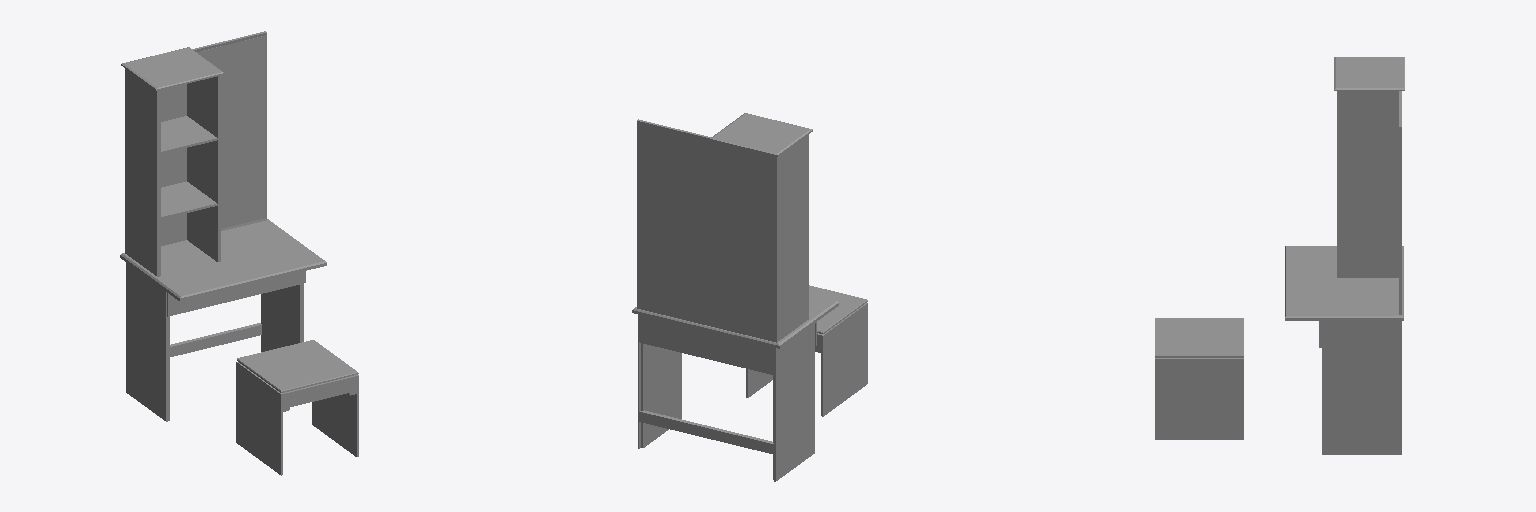
Rendered from dressing_table.obj.
3 renders of one model, left to right at view 1: azimuth 30°, elevation 25°; view 2: azimuth 150°, elevation 25°; view 3: azimuth 270°, elevation 25°, orthographic.
Visible parts, largest first — view 1: Plane, Cube.003, Cube.004, Cube, Cube.006_Cube.007, Cube.013_Cube.014, Cube.016_Cube.017, Cube.007_Cube.008, Cube.002, Cube.005, Cube.015_Cube.016, Cube.010_Cube.012 (+5 smaller); view 2: Cube.008_Cube.009, Cube.005, Cube.004, Cube, Cube.013_Cube.014, Cube.001, Cube.002, Cube.007_Cube.008, Cube.012_Cube.013, Cube.003, Cube.016_Cube.017; view 3: Cube.006_Cube.007, Cube.002, Cube.015_Cube.016, Cube.003, Cube.016_Cube.017, Cube.007_Cube.008, Cube.008_Cube.009.
Boxes of the visible parts, x1,y1,x2,y2 form: Plane: [197, 36, 264, 228]; Cube.003: [120, 219, 326, 300]; Cube.004: [125, 69, 160, 276]; Cube: [126, 263, 169, 421]; Cube.006_Cube.007: [187, 76, 220, 261]; Cube.013_Cube.014: [236, 362, 282, 475]; Cube.016_Cube.017: [237, 340, 358, 392]; Cube.007_Cube.008: [121, 47, 224, 90]; Cube.002: [261, 284, 303, 351]; Cube.005: [161, 84, 186, 245]; Cube.015_Cube.016: [312, 375, 358, 456]; Cube.010_Cube.012: [167, 271, 305, 316]; Cube.008_Cube.009: [637, 119, 713, 326]; Cube.005: [715, 142, 774, 341]; Cube.004: [775, 134, 808, 342]; Cube: [773, 323, 814, 481]; Cube.013_Cube.014: [821, 303, 867, 416]; Cube.001: [639, 315, 773, 374]; Cube.002: [638, 315, 681, 448]; Cube.007_Cube.008: [710, 113, 812, 156]; Cube.012_Cube.013: [639, 410, 773, 454]; Cube.003: [632, 294, 838, 348]; Cube.016_Cube.017: [809, 285, 867, 333]; Cube.006_Cube.007: [1337, 91, 1398, 277]; Cube.002: [1322, 321, 1401, 454]; Cube.015_Cube.016: [1155, 358, 1243, 439]; Cube.003: [1285, 246, 1403, 320]; Cube.016_Cube.017: [1155, 318, 1243, 357]; Cube.007_Cube.008: [1334, 57, 1404, 90]; Cube.008_Cube.009: [1399, 91, 1401, 314].
Bounding box in the file's own units: 34.24 × 73.09 × 50.35.